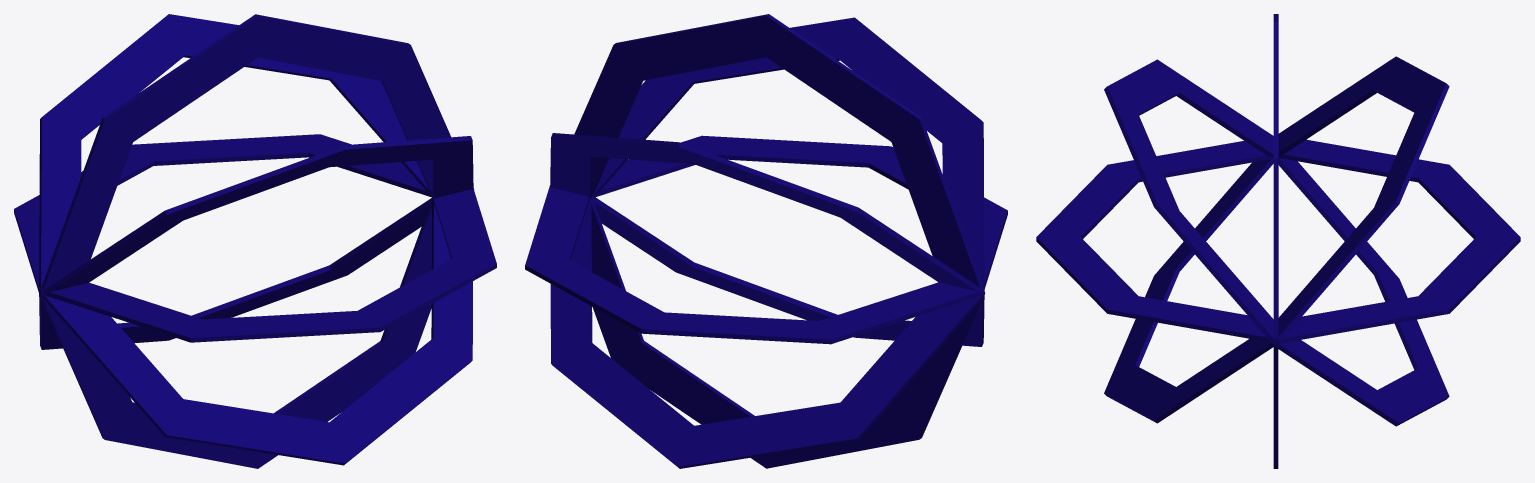
File: 10_Orboloid.fbx
3 renders of one model, left to right at view 1: azimuth 30°, elevation 25°; view 2: azimuth 150°, elevation 25°; view 3: azimuth 270°, elevation 25°, orthographic. The views are drawn at different scales.
Parts seen in each view (by area): view 1: Orboloid; view 2: Orboloid; view 3: Orboloid.
Boxes of the visible parts, left/top/right/bottom form: Orboloid: left=14, top=14, right=496, bottom=468; Orboloid: left=525, top=14, right=1007, bottom=468; Orboloid: left=1036, top=14, right=1520, bottom=468.
Bounding box in the file's own units: 100 × 100 × 100.
